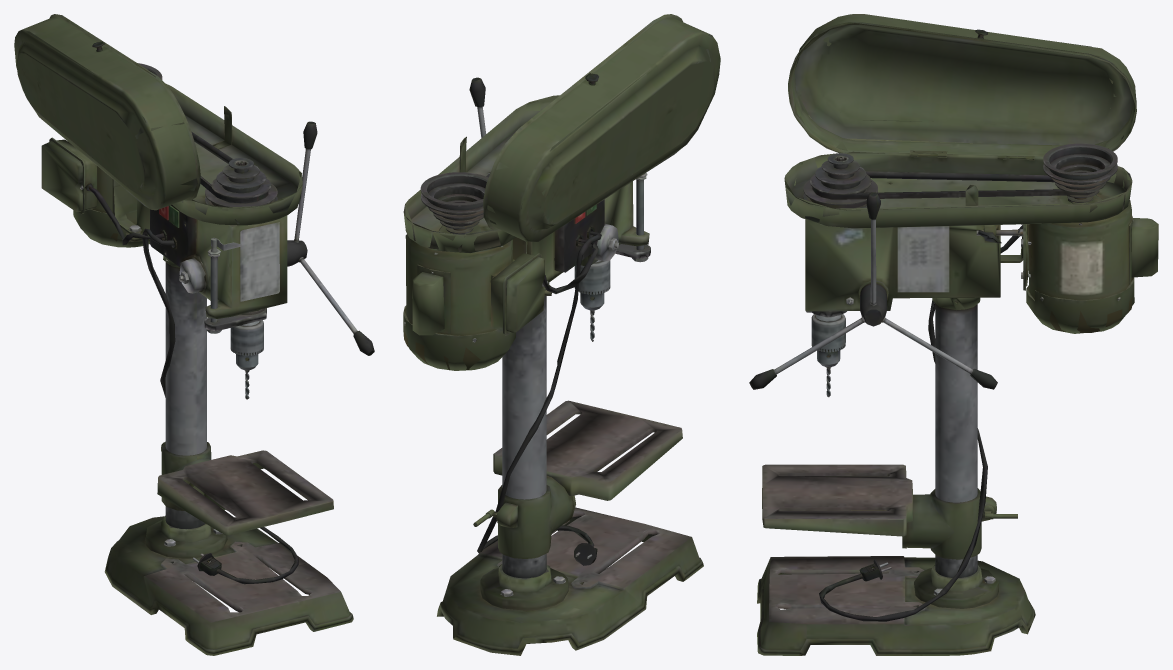
Rendered from drill_press_01.gltf.
3 views of the same model, side by side, from view 1: azimuth 30°, elevation 25°; view 2: azimuth 150°, elevation 25°; view 3: azimuth 270°, elevation 25° (orthographic). The views are drawn at different scales.
Visible parts, largest first — view 1: drill_press_01, drill_press_01_lid, drill_press_01_plate, drill_press_01_gear_b, drill_press_01_plug, drill_press_01_handle, drill_press_01_limiter, drill_press_01_bit, drill_press_01_belt; view 2: drill_press_01, drill_press_01_lid, drill_press_01_plate, drill_press_01_gear_a, drill_press_01_plug, drill_press_01_bit, drill_press_01_limiter, drill_press_01_handle; view 3: drill_press_01, drill_press_01_lid, drill_press_01_plate, drill_press_01_handle, drill_press_01_gear_a, drill_press_01_belt, drill_press_01_gear_b, drill_press_01_plug, drill_press_01_bit.
Boxes of the visible parts, x1,y1,x2,y2 form: drill_press_01: [41, 83, 353, 655]; drill_press_01_lid: [14, 14, 200, 210]; drill_press_01_plate: [157, 441, 333, 535]; drill_press_01_gear_b: [205, 158, 277, 207]; drill_press_01_plug: [142, 228, 298, 584]; drill_press_01_handle: [287, 121, 374, 355]; drill_press_01_limiter: [204, 238, 266, 333]; drill_press_01_bit: [230, 320, 263, 399]; drill_press_01_belt: [191, 131, 268, 203]; drill_press_01: [403, 95, 703, 655]; drill_press_01_lid: [483, 14, 720, 241]; drill_press_01_plate: [493, 400, 682, 558]; drill_press_01_gear_a: [420, 172, 488, 233]; drill_press_01_plug: [477, 231, 601, 565]; drill_press_01_bit: [574, 260, 610, 341]; drill_press_01_limiter: [615, 173, 650, 262]; drill_press_01_handle: [469, 77, 489, 174]; drill_press_01: [757, 151, 1158, 655]; drill_press_01_lid: [788, 14, 1136, 159]; drill_press_01_plate: [762, 464, 996, 559]; drill_press_01_handle: [749, 192, 997, 389]; drill_press_01_gear_a: [1043, 143, 1117, 202]; drill_press_01_belt: [812, 171, 1095, 199]; drill_press_01_gear_b: [803, 153, 877, 208]; drill_press_01_plug: [819, 300, 987, 621]; drill_press_01_bit: [811, 314, 845, 397].
Size of the model in its own units: 0.3541 by 0.9011 by 0.5982.
1 material, 1 textured.
